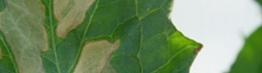Tomato leaf bacterial spot: (0, 0, 231, 73)
